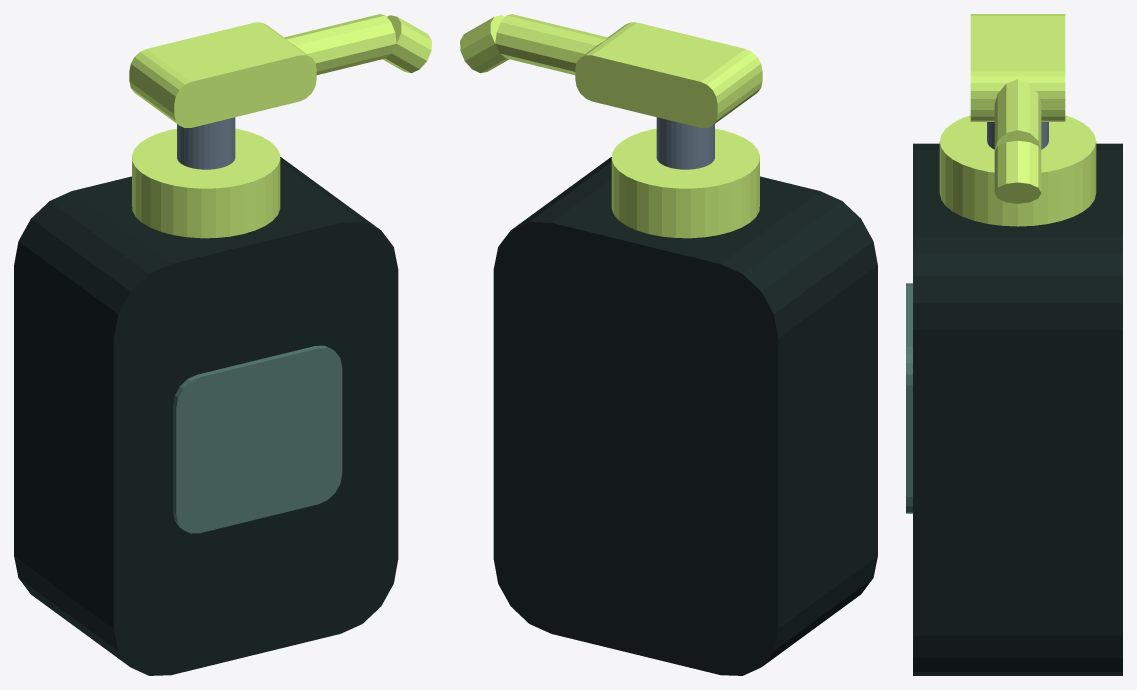
File: pump.glb
3 renders of one model, left to right at view 1: azimuth 30°, elevation 25°; view 2: azimuth 150°, elevation 25°; view 3: azimuth 270°, elevation 25°, orthographic. The views are drawn at different scales.
Parts seen in each view (by area): view 1: bottle body, label, pump head, neck, spout0, piston, spout1; view 2: bottle body, pump head, neck, spout0, piston, spout1; view 3: bottle body, neck, pump head, spout1, spout0, label, piston.
Part boxes in pixels (x1,y1,x2,y2): bottle body: (14,157,398,675); label: (173,345,342,533); pump head: (129,22,316,127); neck: (132,128,280,238); spout0: (284,14,396,74); piston: (177,117,235,169); spout1: (383,15,431,73); bottle body: (493,157,877,675); pump head: (575,22,762,127); neck: (611,128,759,238); spout0: (495,14,607,74); piston: (656,117,714,169); spout1: (460,15,508,73); bottle body: (913,143,1122,675); neck: (939,115,1096,226); pump head: (970,14,1065,121); spout1: (994,140,1041,203); spout0: (994,79,1041,150); label: (906,283,912,513); piston: (987,122,1048,149).
Bounding box in the file's own units: 1.07 × 1.58 × 0.527.
